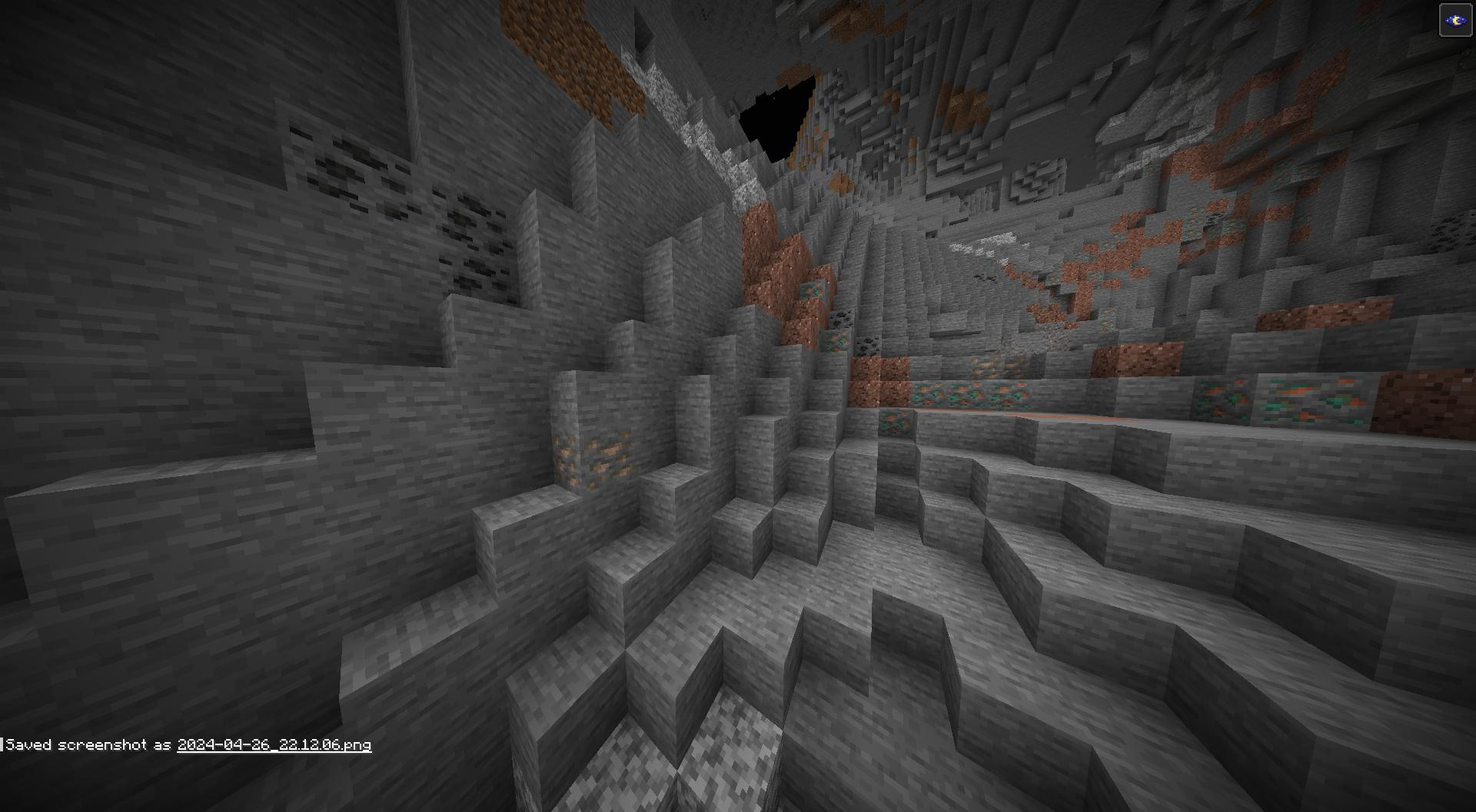iron ore: (582, 429, 630, 482), (551, 431, 580, 487), (968, 353, 1000, 378), (1004, 354, 1026, 379)
